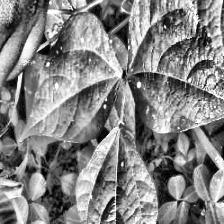Bean Rust: (120, 0, 224, 131), (24, 14, 120, 145), (73, 127, 156, 224), (181, 0, 224, 93)
